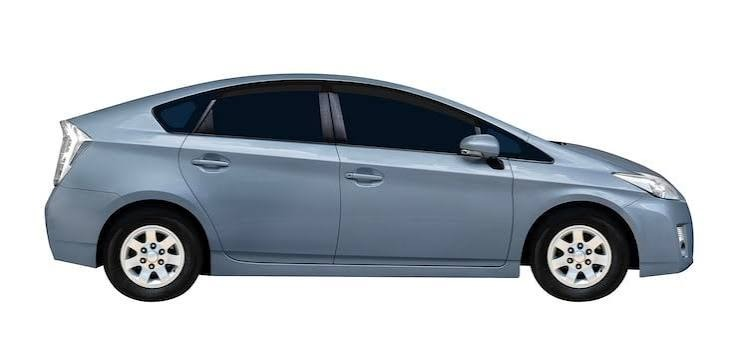car: (38, 88, 702, 300)
